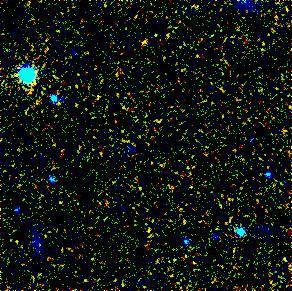star: (129, 21, 159, 51)
